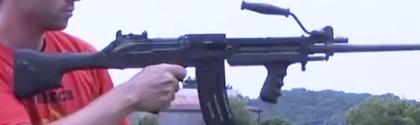gun: (1, 1, 420, 125)
